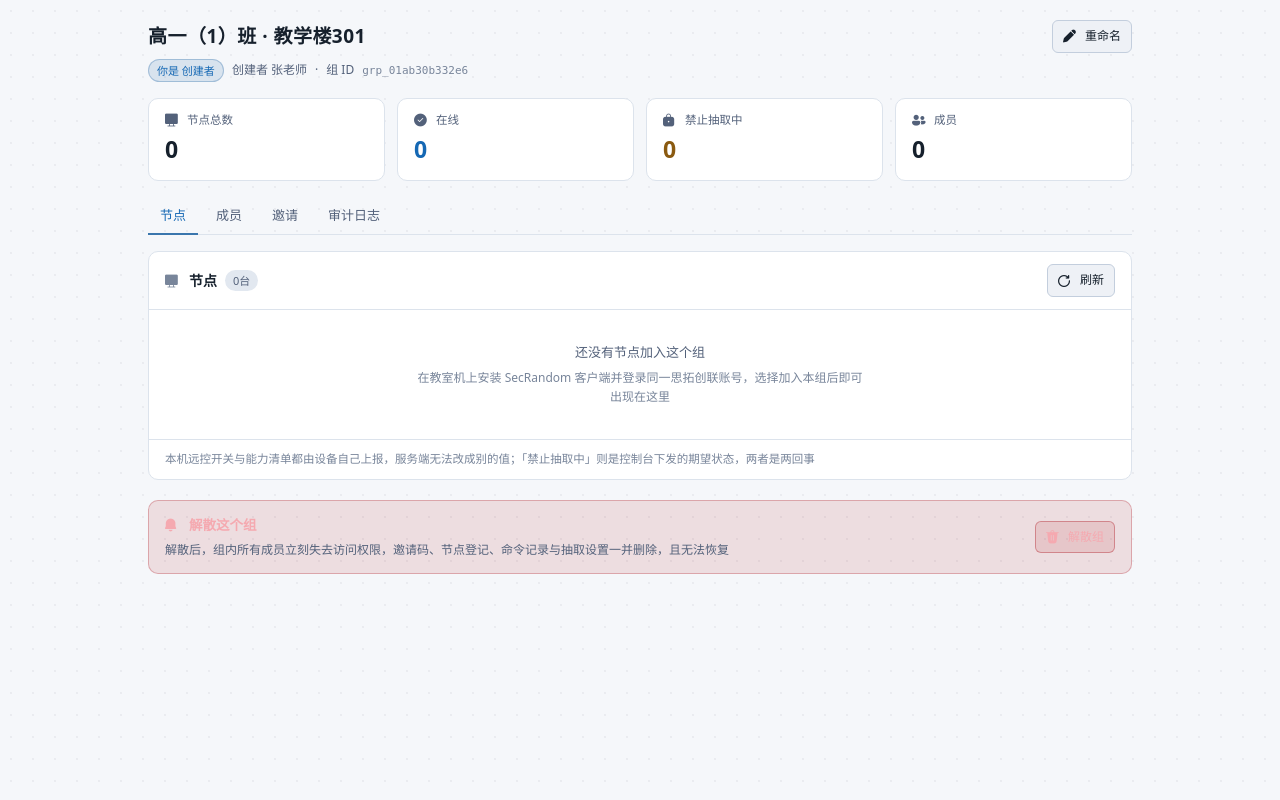
Test: GroupDetailView 解散组 › owner 看到危险区，打开对话框后提交按钮在组名输对之前不可用
The image size is (1280, 800).
Click the button with test id "group-delete-open": click(1075, 537) [1035,521,1115,553]
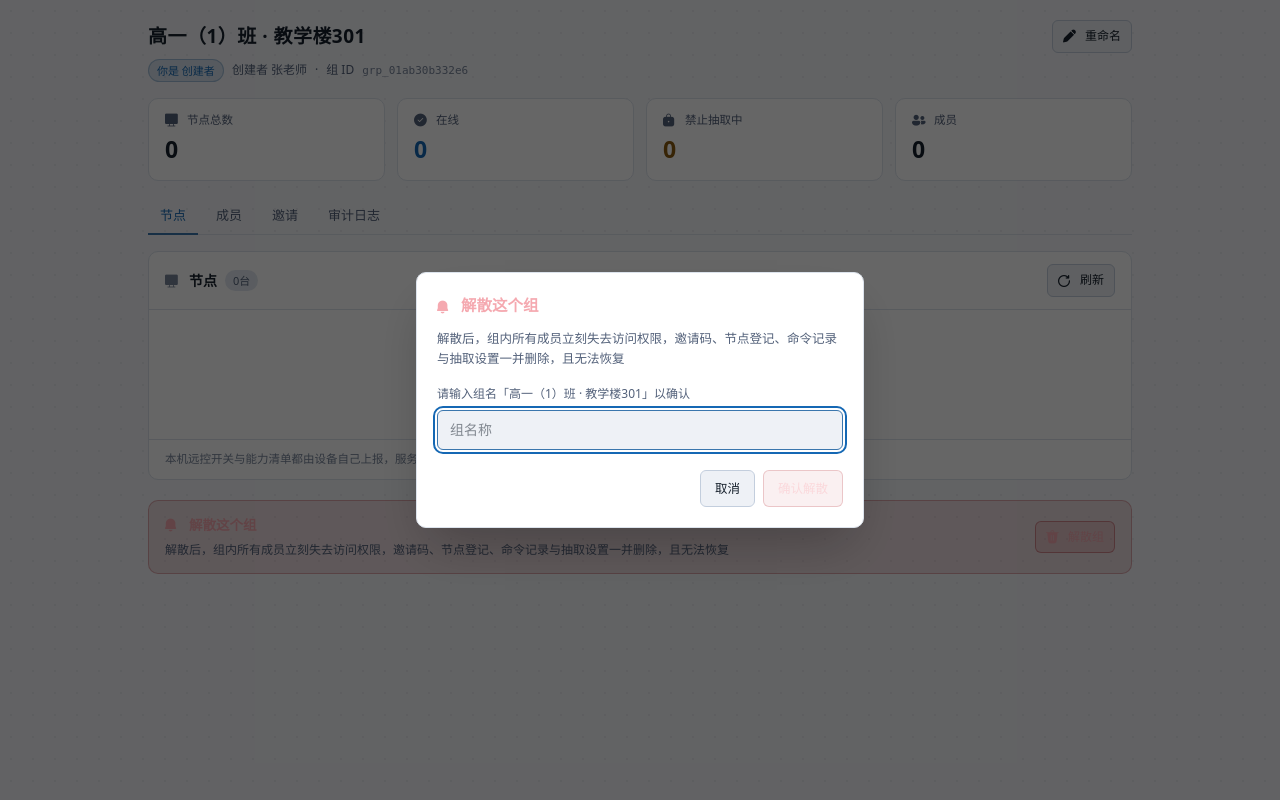
Expected: the dialog with test id "delete-dialog" shows "高一（1）班 · 教学楼301", [437,386,690,402]
Expected: the button with test id "delete-submit" is disabled, [763,470,843,507]
In the field with test id "delete-confirm-name": (640, 430) [437,410,843,450], type "高一（1）班"
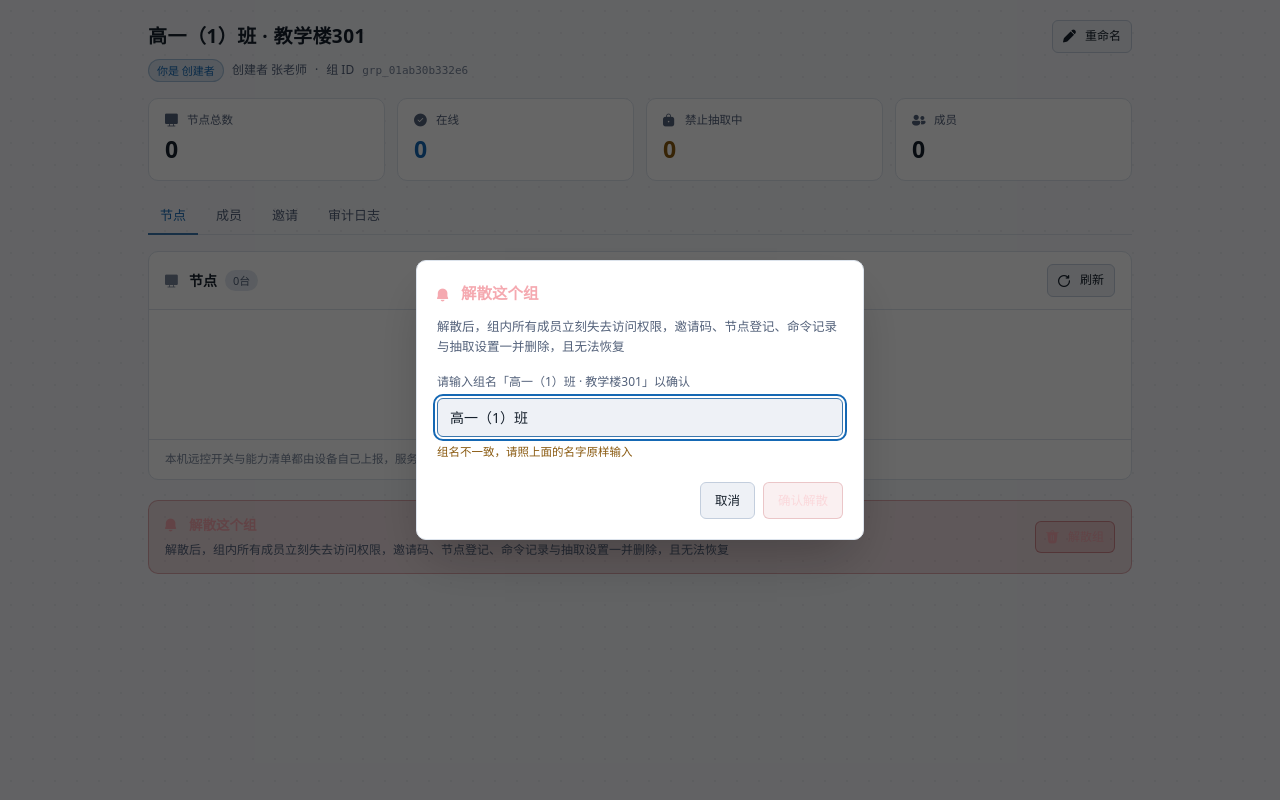
Expected: the button with test id "delete-submit" is disabled, [763,482,843,520]
Expected: the text "组名不一致，请照上面的名字原样输入" is shown, [437,444,632,459]
Replace the text in the field with test id "delete-confirm-name" with "高一（1）班 · 教学楼301": (640, 418) [437,398,843,437]
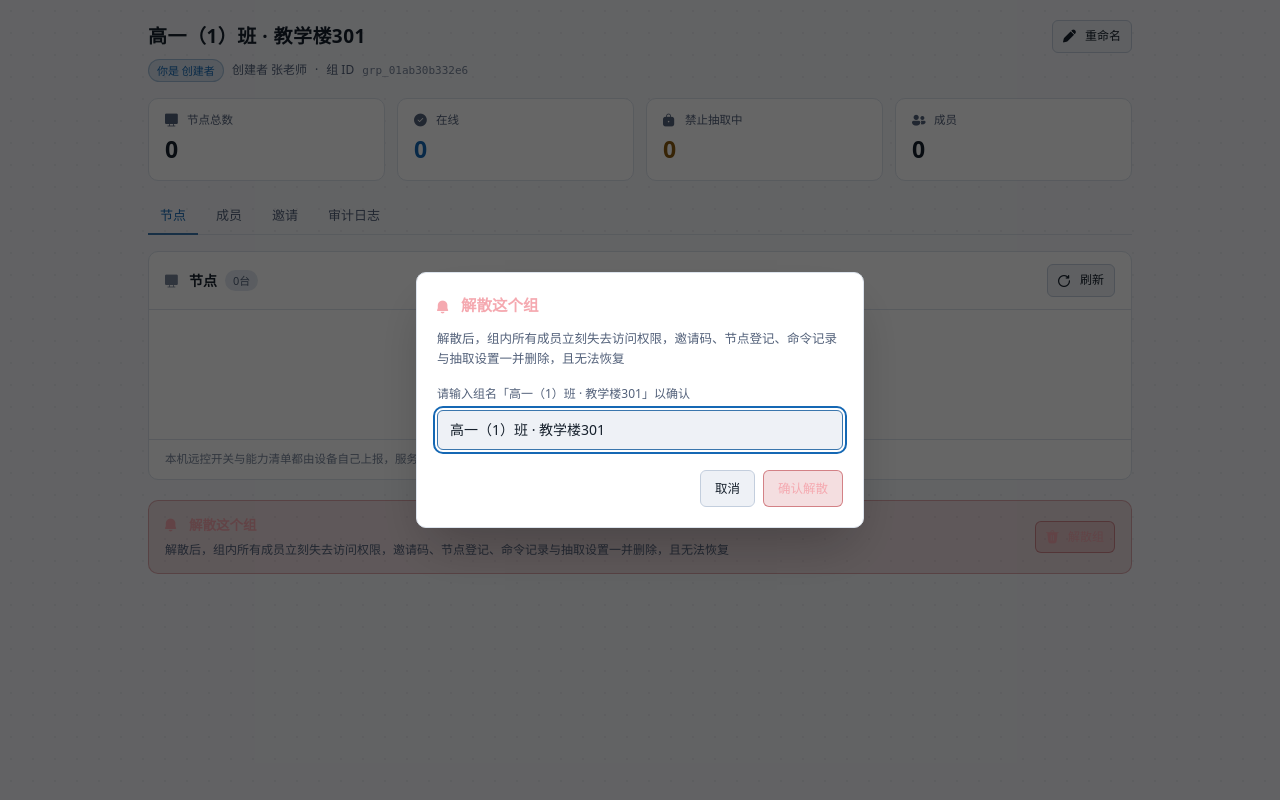
Expected: the button with test id "delete-submit" is enabled, [763,470,843,507]
